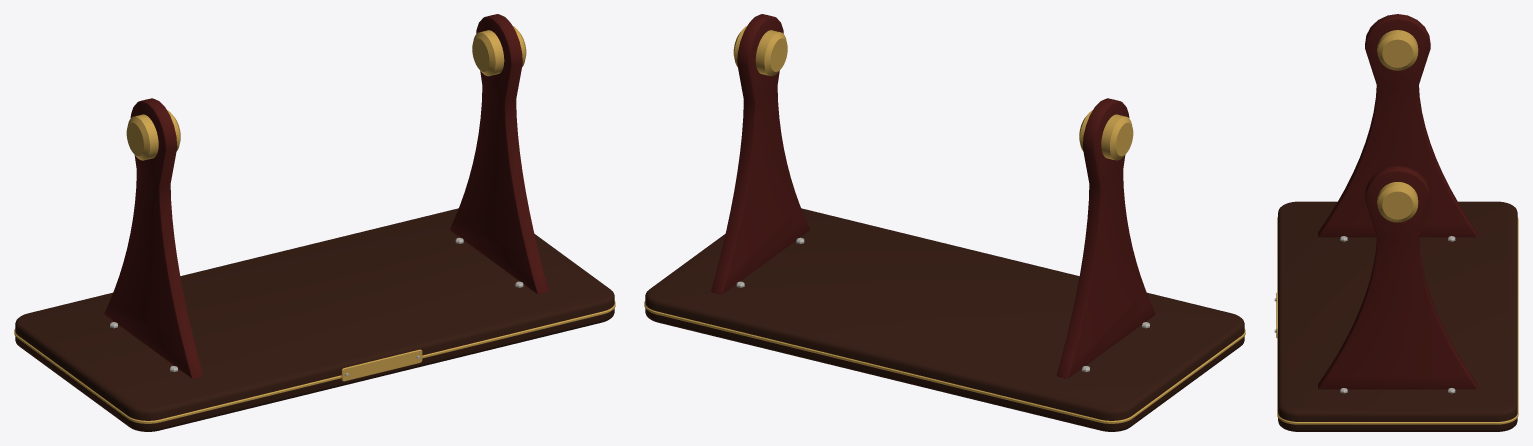
Rendered from bingo-frame.glb.
The picture shows the model from 3 angles, left to right: view 1: azimuth 30°, elevation 25°; view 2: azimuth 150°, elevation 25°; view 3: azimuth 270°, elevation 25°; orthographic projection. The views are drawn at different scales.
Parts seen in each view (by area): view 1: MachineFrame; view 2: MachineFrame; view 3: MachineFrame.
Boxes of the visible parts, left/top/right/bottom form: MachineFrame: left=14, top=14, right=615, bottom=431; MachineFrame: left=644, top=14, right=1245, bottom=431; MachineFrame: left=1274, top=14, right=1518, bottom=431.
Bounding box in the file's own units: 0.843 × 0.455 × 0.4075.
